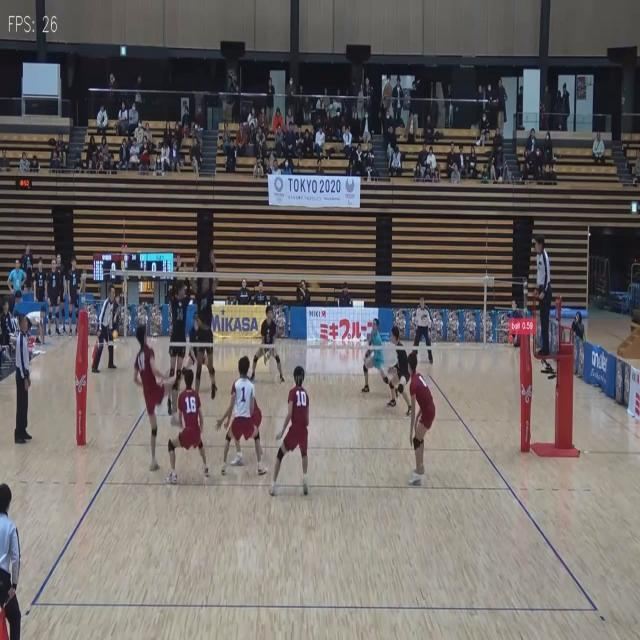volleyball: (307, 280, 320, 290)
